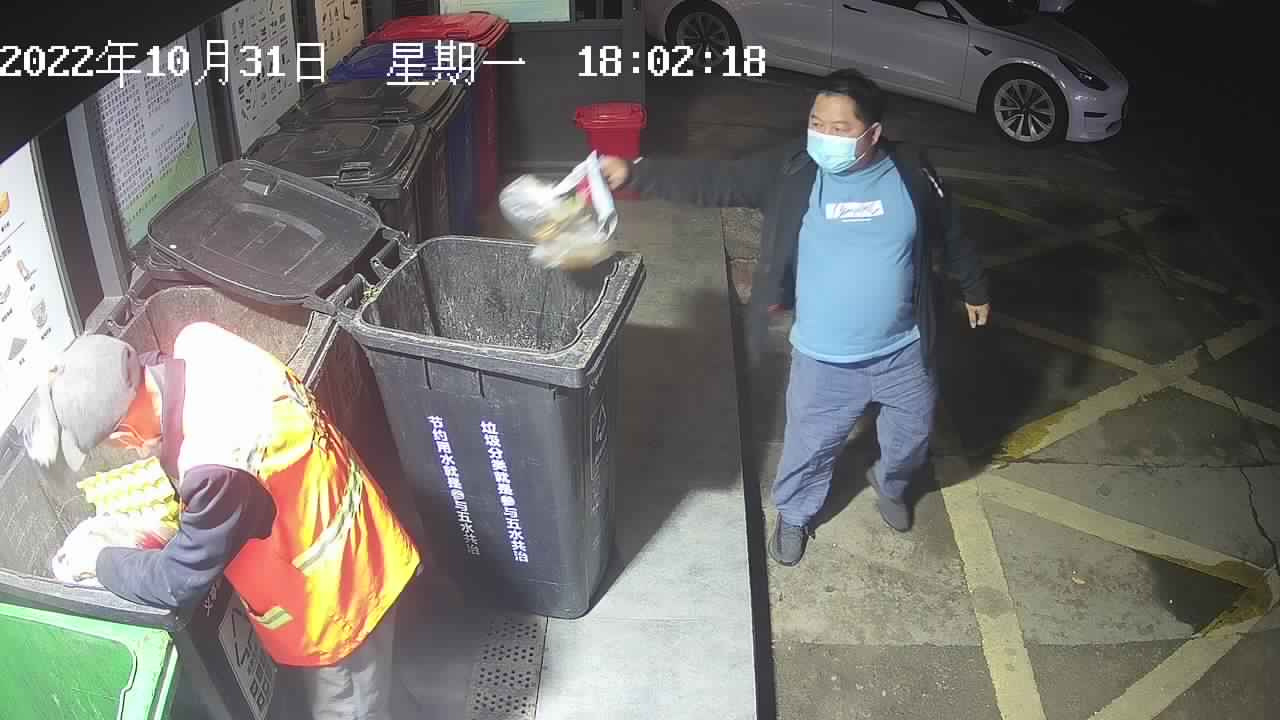garbage-bag: (496, 147, 620, 274)
person: (598, 66, 992, 569)
worker: (49, 319, 421, 720)
